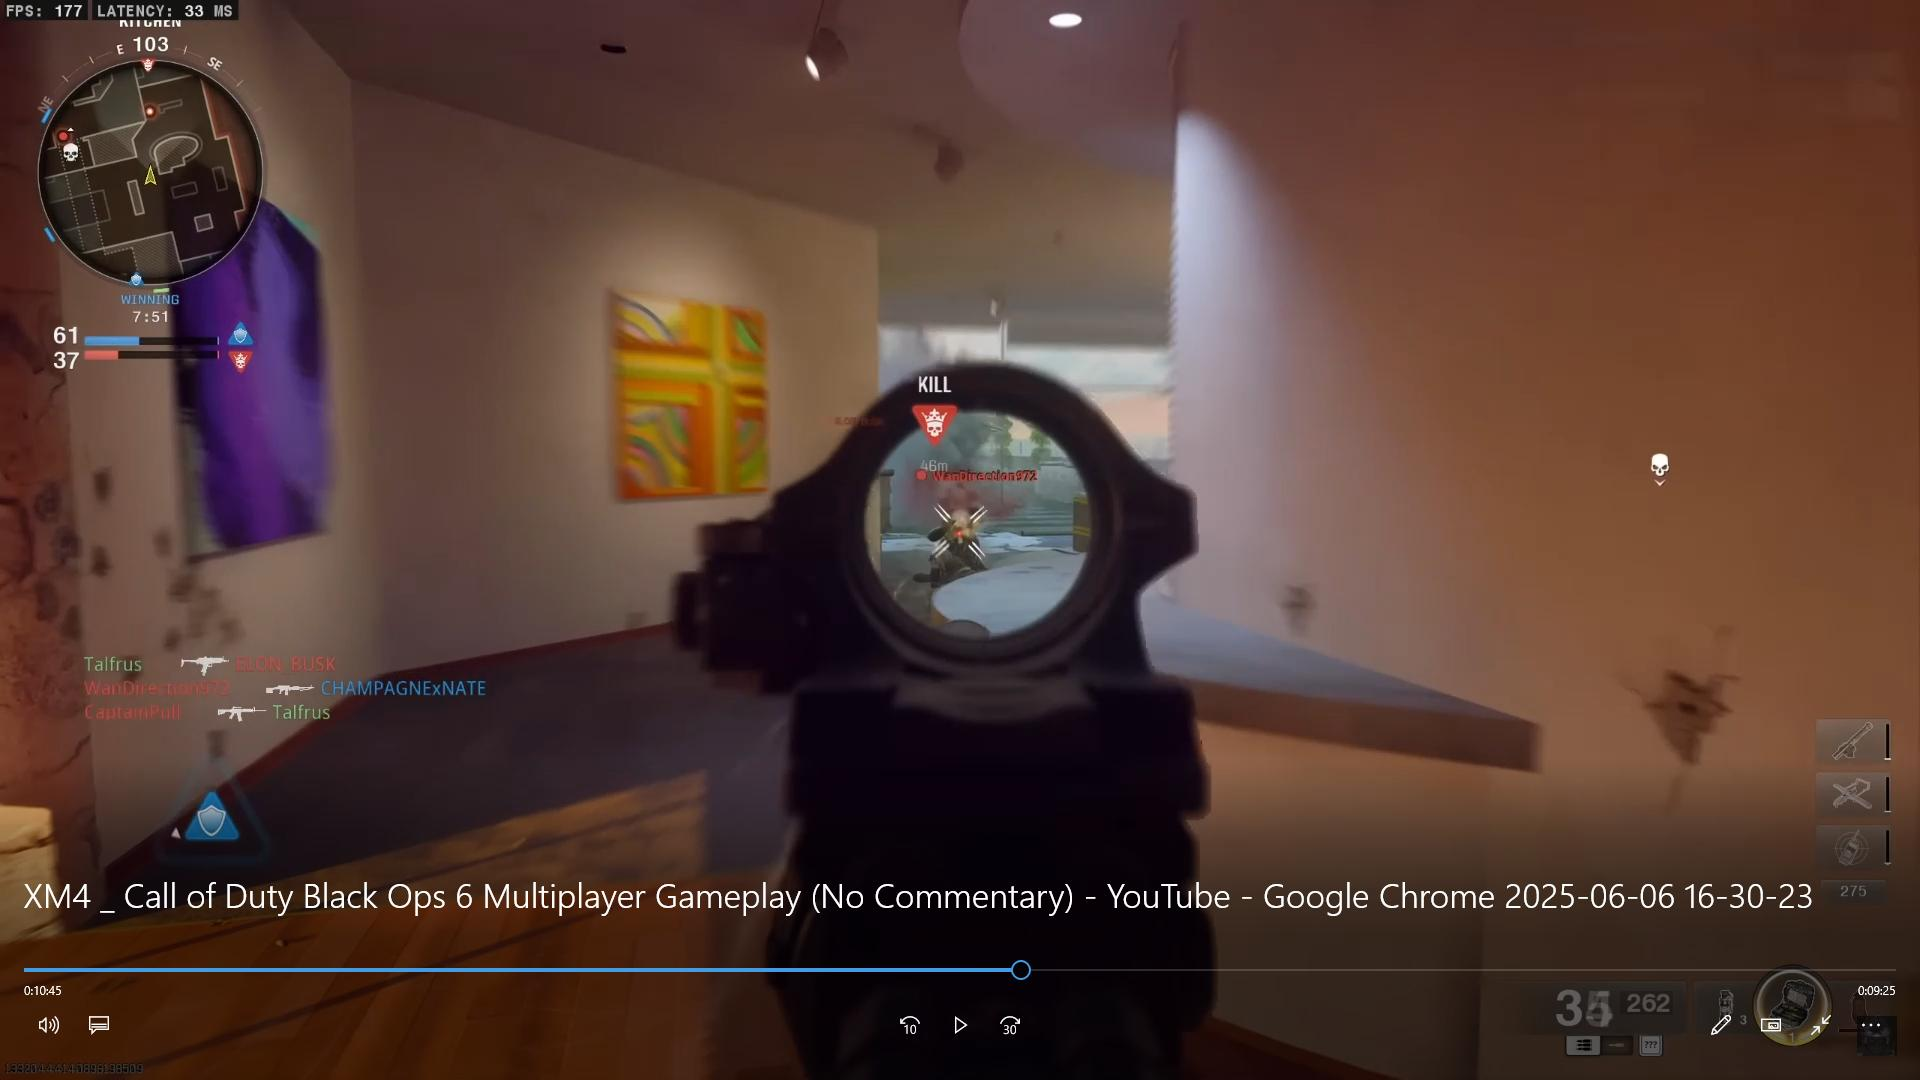Enemy: (918, 462, 996, 578)
